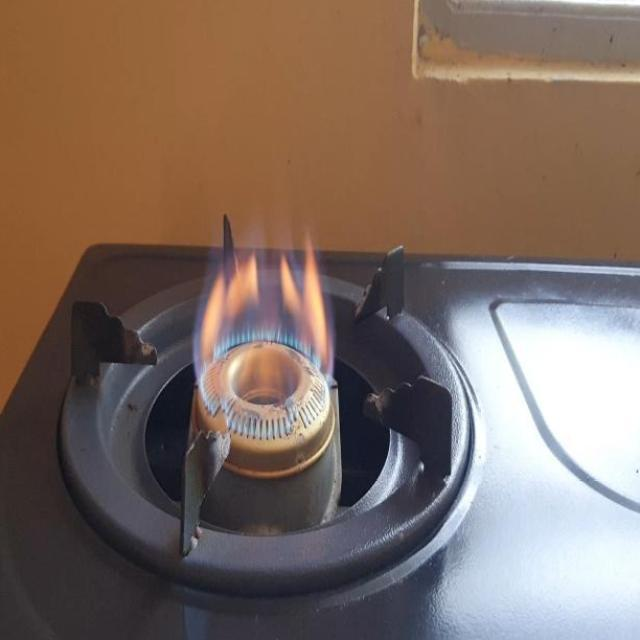smoke: (195, 229, 338, 442)
